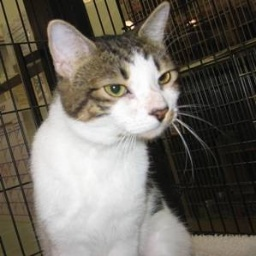cat: (19, 8, 194, 256)
